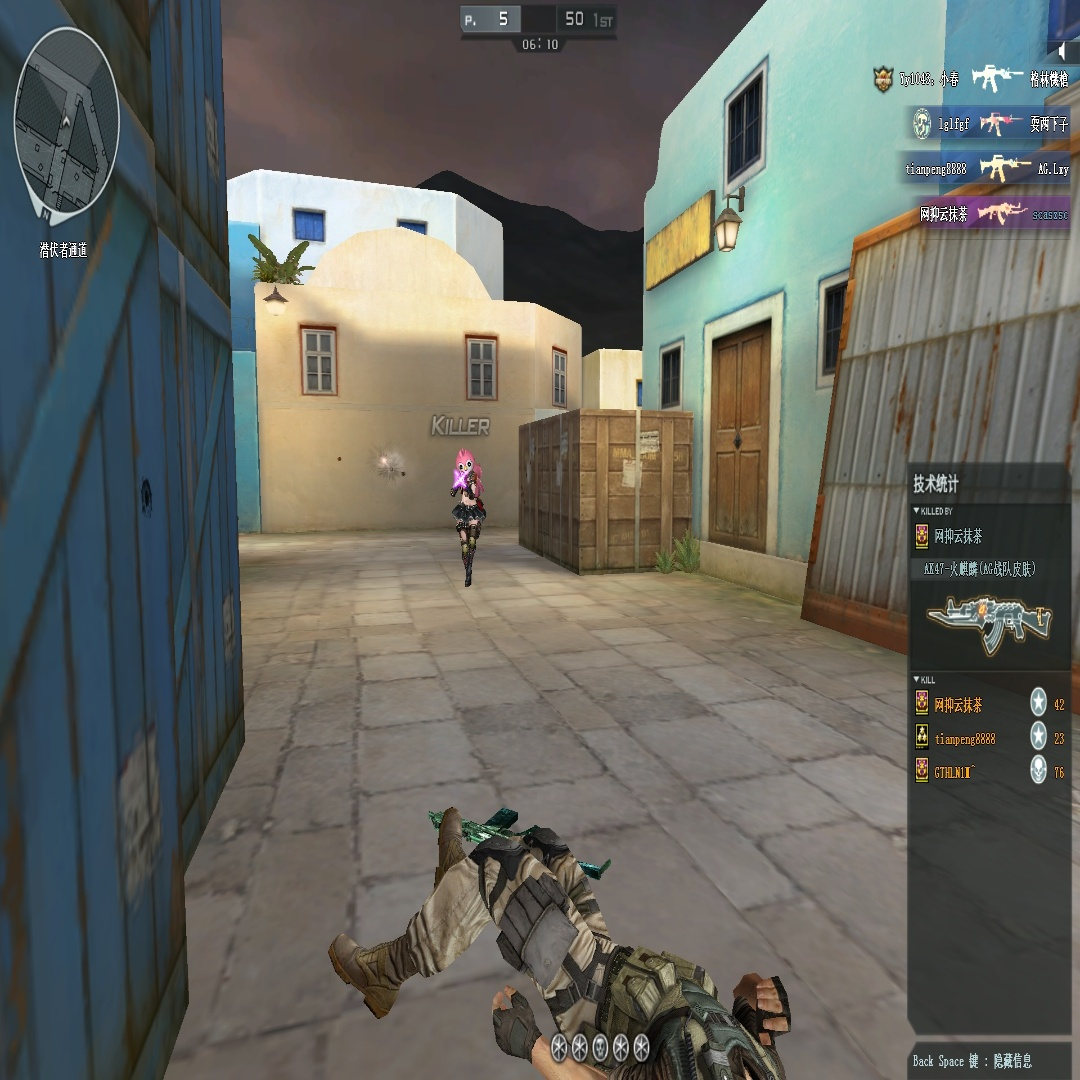p: (449, 444, 485, 551)
